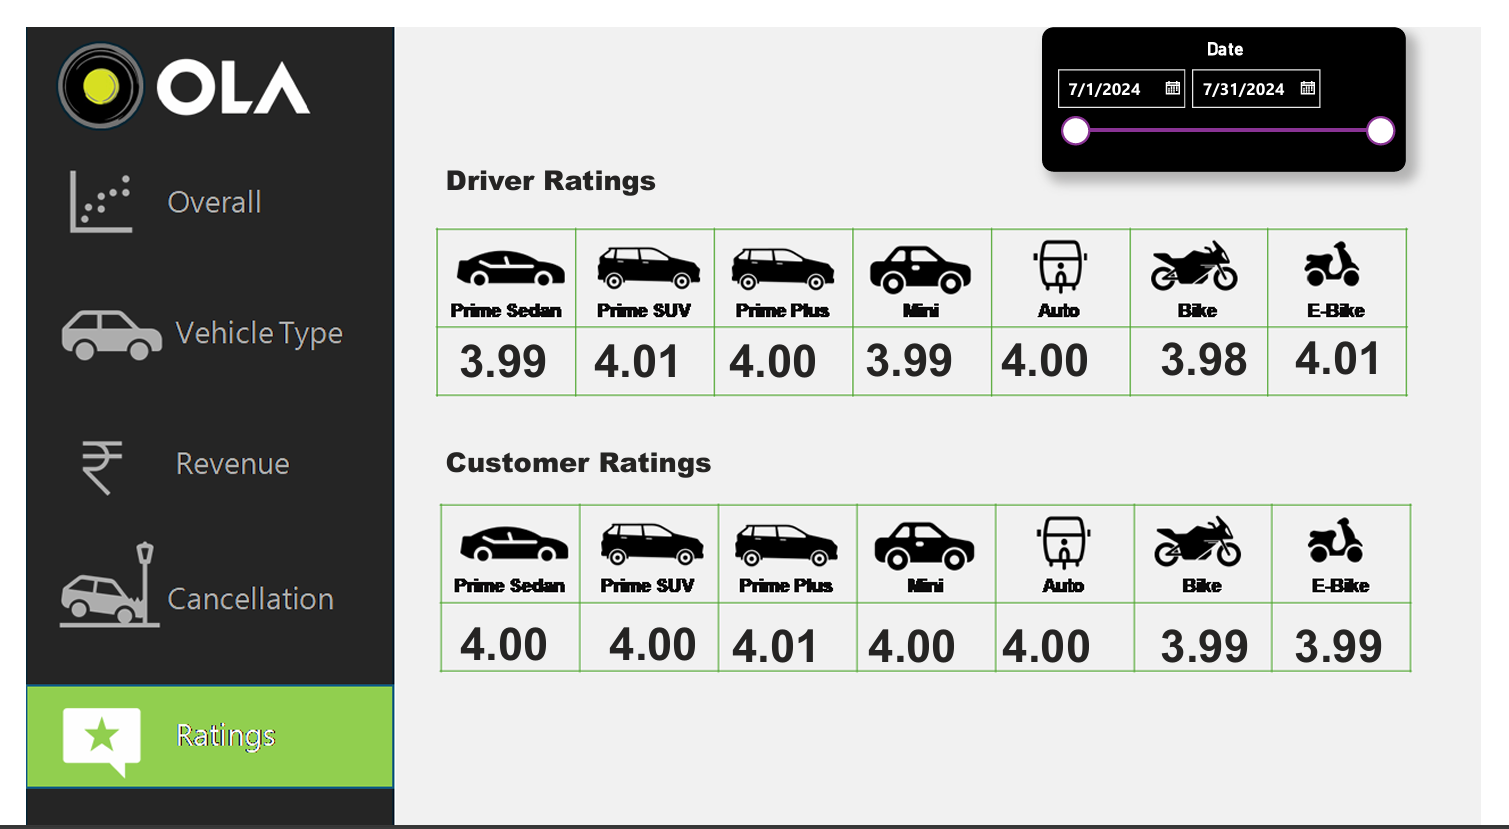

The dashboard page shown, as its layout file describes it:
{"tool":"powerbi","page":{"name":"Ratings","canvas":[1280,720],"ordinal":4},"visuals":[{"type":"actionButton","box":[0,219.5,324.5,92.3],"z":0},{"type":"actionButton","box":[0,326.1,324.5,98.6],"z":1},{"type":"actionButton","box":[0,437.4,324.5,111.3],"z":2},{"type":"actionButton","box":[0,112.9,324.5,85.9],"z":3},{"type":"card","fields":{"Values":["Avg(July.Driver_Ratings)"]},"box":[360.1,261.5,119.1,59.6],"z":4},{"type":"card","fields":{"Values":["Avg(July.Driver_Ratings)"]},"box":[479.2,261.5,119.1,59.6],"z":5},{"type":"card","fields":{"Values":["Avg(July.Driver_Ratings)"]},"box":[598.3,261.5,119.1,59.6],"z":6},{"type":"card","fields":{"Values":["Avg(July.Driver_Ratings)"]},"box":[717.5,259.2,119.1,64.2],"z":7},{"type":"card","fields":{"Values":["Avg(July.Driver_Ratings)"]},"box":[836.6,263.8,119.1,52.7],"z":8},{"type":"card","fields":{"Values":["Avg(July.Driver_Ratings)"]},"box":[976.6,256.1,119.3,68.4],"z":9},{"type":"card","fields":{"Values":["Avg(July.Driver_Ratings)"]},"box":[1095.5,259.2,119.1,59.6],"z":10},{"type":"textbox","box":[364.3,112.3,199.3,61.9],"z":11},{"type":"textbox","box":[364.3,359.7,261.2,52.7],"z":12},{"type":"card","fields":{"Values":["Avg(July.Customer_Rating)"]},"box":[361.1,511.1,119.3,58.9],"z":13},{"type":"card","fields":{"Values":["Avg(July.Customer_Rating)"]},"box":[491.8,494.3,119.8,93.4],"z":14},{"type":"card","fields":{"Values":["Avg(July.Customer_Rating)"]},"box":[601,511.9,118,59.9],"z":15},{"type":"card","fields":{"Values":["Avg(July.Customer_Rating)"]},"box":[720.8,511.9,118,59.9],"z":16},{"type":"card","fields":{"Values":["Avg(July.Customer_Rating)"]},"box":[838.8,511.9,118,59.9],"z":17},{"type":"card","fields":{"Values":["Avg(July.Customer_Rating)"]},"box":[978,511.9,118,59.9],"z":18},{"type":"card","fields":{"Values":["Avg(July.Customer_Rating)"]},"box":[1096,511.9,118,59.9],"z":19},{"type":"slicer","title":"Date","fields":{"Values":["July.Date"]},"box":[893.9,0,319.7,127.2],"z":20}]}

Visuals, with their boxes in screenshot pixels (x1, y1, x2, y2), scaled from the page's 1280x720 canvas onto the 1509x829 screenshot:
actionButton: bbox=(0, 253, 383, 359)
actionButton: bbox=(0, 375, 383, 489)
actionButton: bbox=(0, 504, 383, 632)
actionButton: bbox=(0, 130, 383, 229)
card - Avg(July.Driver_Ratings): bbox=(425, 301, 565, 370)
card - Avg(July.Driver_Ratings): bbox=(565, 301, 705, 370)
card - Avg(July.Driver_Ratings): bbox=(705, 301, 846, 370)
card - Avg(July.Driver_Ratings): bbox=(846, 298, 986, 372)
card - Avg(July.Driver_Ratings): bbox=(986, 304, 1127, 364)
card - Avg(July.Driver_Ratings): bbox=(1151, 295, 1292, 374)
card - Avg(July.Driver_Ratings): bbox=(1291, 298, 1432, 367)
textbox: bbox=(429, 129, 664, 201)
textbox: bbox=(429, 414, 737, 475)
card - Avg(July.Customer_Rating): bbox=(426, 588, 566, 656)
card - Avg(July.Customer_Rating): bbox=(580, 569, 721, 677)
card - Avg(July.Customer_Rating): bbox=(709, 589, 848, 658)
card - Avg(July.Customer_Rating): bbox=(850, 589, 989, 658)
card - Avg(July.Customer_Rating): bbox=(989, 589, 1128, 658)
card - Avg(July.Customer_Rating): bbox=(1153, 589, 1292, 658)
card - Avg(July.Customer_Rating): bbox=(1292, 589, 1431, 658)
"Date" slicer: bbox=(1054, 0, 1431, 146)
